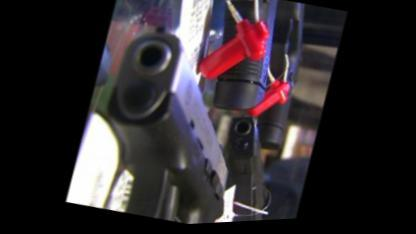pistol: (89, 7, 275, 228)
